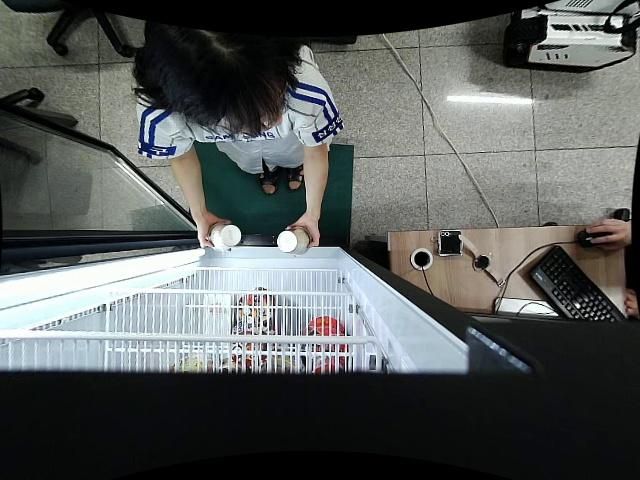00_hand: (195, 215, 229, 247), (287, 216, 319, 249)
04_chapagetti_S: (277, 226, 310, 257), (211, 221, 242, 249)
